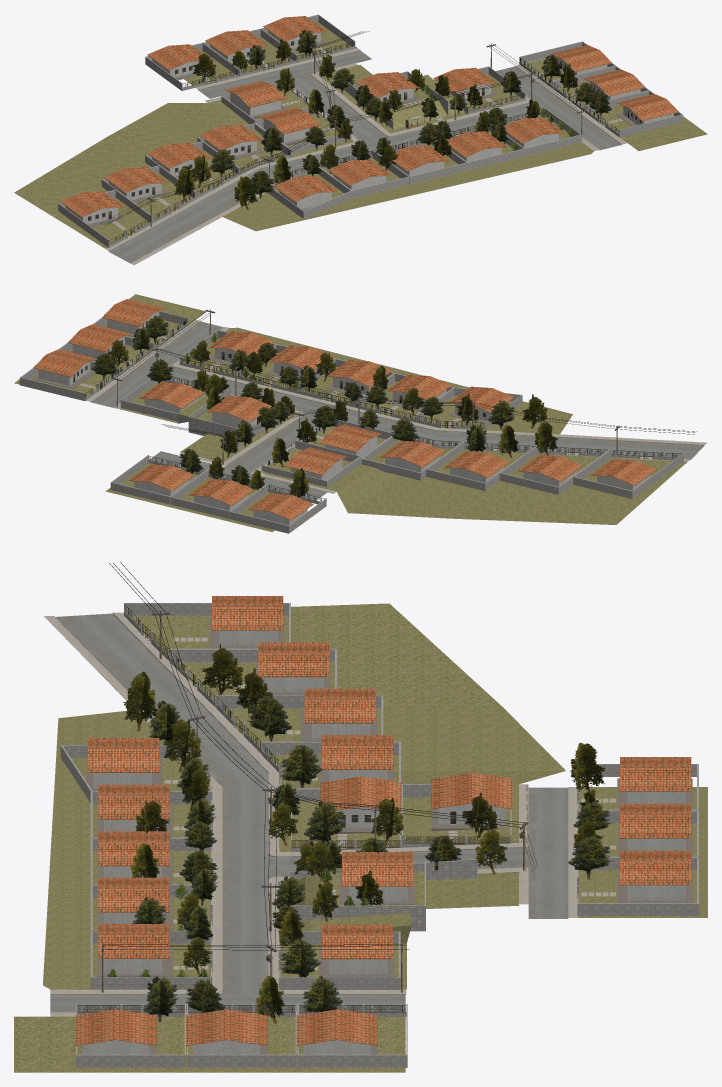
The model's file is bus_stop.glb.
The picture shows the model from 3 angles, top to bottom: view 1: azimuth 30°, elevation 25°; view 2: azimuth 150°, elevation 25°; view 3: azimuth 270°, elevation 25°; orthographic projection. The views are drawn at different scales.
Visible parts, largest first — view 1: Tree.002, House_009, House_005, House_002, House_003, House_011, House_006, House_010, House_001, House_007, House, House_004 (+10 smaller); view 2: Tree.002, House_009, House_005, House_003, House_002, House_011, House_010, House_008, House_007, House_004, House_006, Lamppost_011 (+17 smaller); view 3: Tree.002, House_005, House_009, House_003, House_002, House_004, House_001, House_011, House_010, House_008, House_006, House_007 (+25 smaller).
Boxes of the visible parts, <box> form: Tree.002: <box>14,22,707,265</box>; House_009: <box>145,14,355,90</box>; House_005: <box>519,41,682,137</box>; House_002: <box>319,140,467,198</box>; House_003: <box>221,80,351,153</box>; House_011: <box>58,189,152,247</box>; House_006: <box>267,167,351,218</box>; House_010: <box>101,165,195,223</box>; House_001: <box>491,108,582,155</box>; House_007: <box>197,123,291,175</box>; House: <box>436,124,524,170</box>; House_004: <box>433,66,525,114</box>; Tree.002: <box>14,294,707,532</box>; House_009: <box>110,455,326,533</box>; House_005: <box>19,299,188,400</box>; House_003: <box>261,419,393,487</box>; House_002: <box>297,358,453,422</box>; House_011: <box>573,449,683,498</box>; House_010: <box>499,445,609,494</box>; House_008: <box>426,441,536,490</box>; House_007: <box>361,436,463,480</box>; House_004: <box>120,377,210,421</box>; House_006: <box>416,386,522,430</box>; Lamppost_011: <box>113,310,696,437</box>; Tree.002: <box>14,603,707,1072</box>; House_005: <box>75,1004,407,1067</box>; House_009: <box>577,757,698,915</box>; House_003: <box>291,773,512,852</box>; House_002: <box>90,784,212,884</box>; House_004: <box>278,924,400,989</box>; House_001: <box>90,924,212,989</box>; House_011: <box>124,596,290,661</box>; House_010: <box>170,642,336,708</box>; House_008: <box>216,688,383,753</box>; House_006: <box>60,738,212,802</box>; House_007: <box>261,735,400,788</box>.
Bounding box in the file's own units: 217 × 15.55 × 136.
20 materials, 19 textured.
